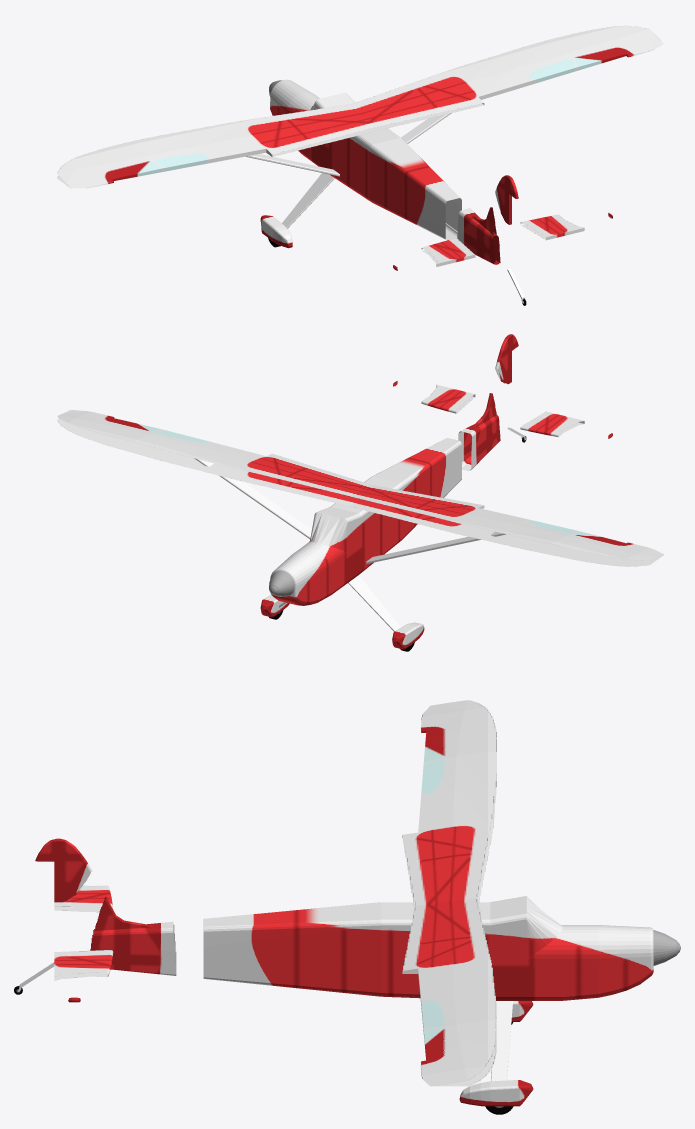
File: rascal_body.obj
3 views of the same model, one above another, from view 1: azimuth 30°, elevation 25°; view 2: azimuth 150°, elevation 25°; view 3: azimuth 270°, elevation 25° (orthographic). The views are drawn at different scales.
Visible parts, largest first — view 1: Wing, Fuselage, HStab, Fin, UC_Main_Right, UC_R_Spat, Wing_Brace_R; view 2: Wing, Fuselage, HStab, Wing_Brace_L, Fin, UC_Main_Right, Wing_Brace_R, UC_R_Spat, Spinner; view 3: Fuselage, Wing, Fin, HStab, UC_L_Spat, UC_Main_Left, Spinner.
Part boxes in pixels (box(x1,y1,x2,y2)): Wing: box(57, 25, 663, 188); Fuselage: box(270, 79, 500, 264); HStab: box(393, 213, 612, 270); Fin: box(472, 175, 518, 262); UC_Main_Right: box(282, 173, 334, 228); UC_R_Spat: box(260, 215, 292, 248); Wing_Brace_R: box(246, 154, 339, 176); Wing: box(57, 410, 663, 566); Fuselage: box(270, 415, 500, 605); HStab: box(393, 381, 612, 438); Wing_Brace_L: box(194, 458, 311, 539); Fin: box(472, 334, 518, 427); UC_Main_Right: box(348, 575, 400, 631); Wing_Brace_R: box(366, 531, 505, 563); UC_R_Spat: box(392, 622, 424, 649); Spinner: box(269, 571, 294, 596); Fuselage: box(90, 896, 653, 1000); Wing: box(402, 700, 496, 1086); Fin: box(35, 838, 153, 948); HStab: box(54, 885, 113, 1002); UC_L_Spat: box(459, 1080, 533, 1106); UC_Main_Left: box(491, 1002, 512, 1081); Spinner: box(653, 930, 680, 965).
Bounding box in the file's own units: 2.82 × 0.7162 × 1.87.
5 materials, 1 textured.
